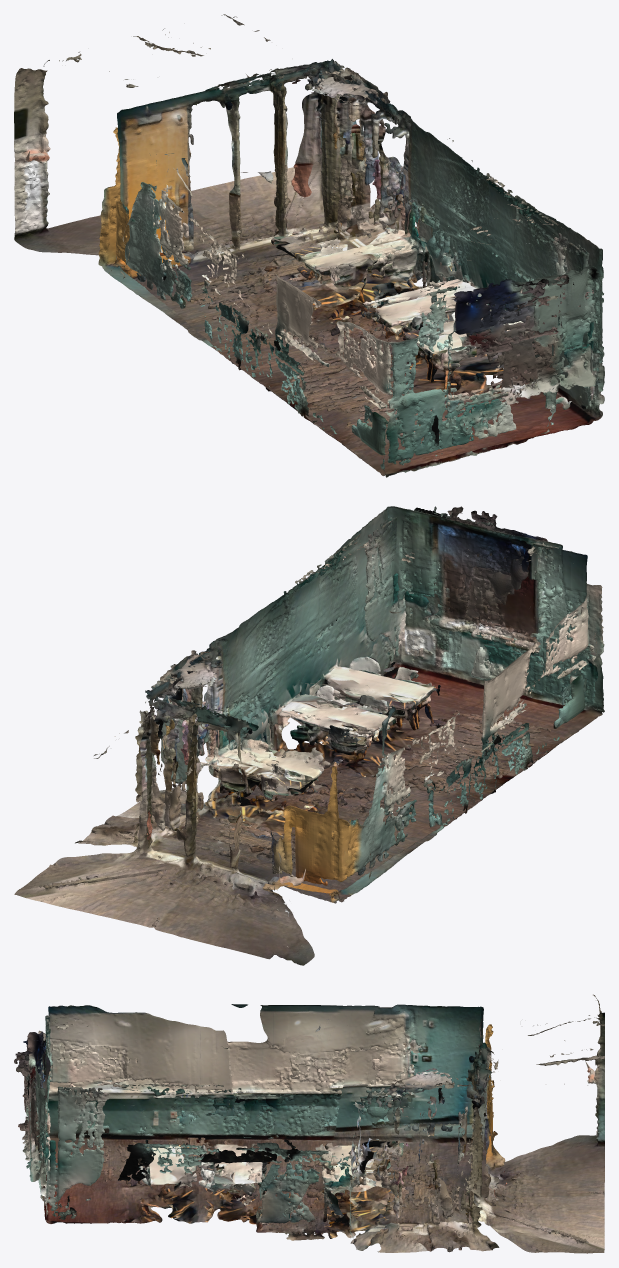
File: POLYCAM_ROOM_1.glb
The picture shows the model from 3 angles, top to bottom: view 1: azimuth 30°, elevation 25°; view 2: azimuth 150°, elevation 25°; view 3: azimuth 270°, elevation 25°; orthographic projection. The views are drawn at different scales.
Size of the model in its own units: 4.59 by 2.71 by 9.48.
3 materials, 3 textured.
